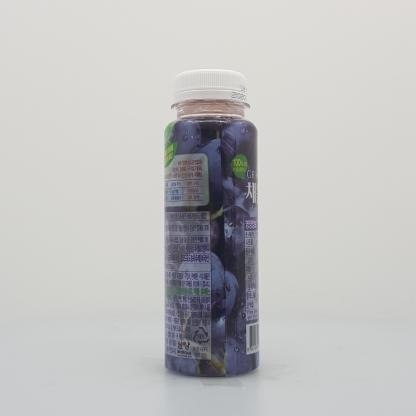---------210ML: (163, 69, 260, 377)
